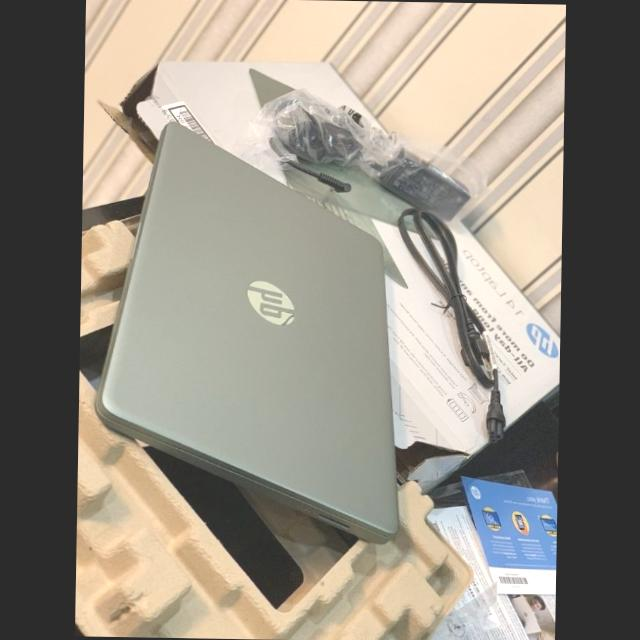laptop: (95, 122, 398, 541)
